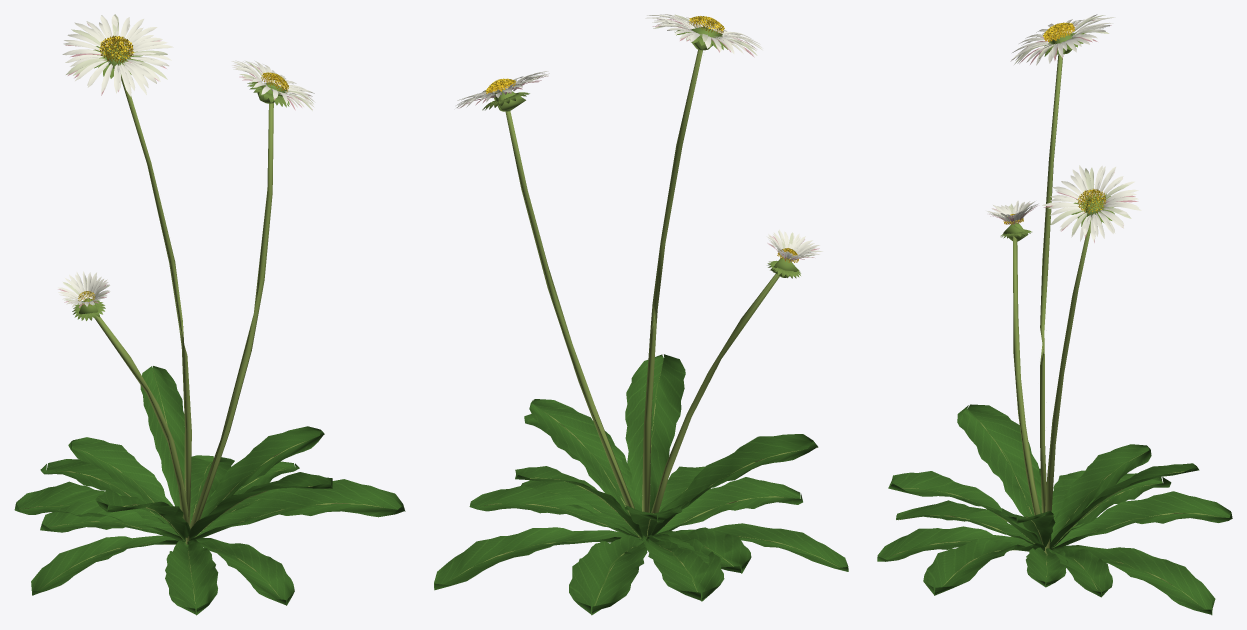
Rendered from common-daisy.glb.
The picture shows the model from 3 angles, left to right: view 1: azimuth 30°, elevation 25°; view 2: azimuth 150°, elevation 25°; view 3: azimuth 270°, elevation 25°; orthographic projection. The views are drawn at different scales.
Visible parts, largest first — view 1: Basal spoon-leaf rosette, Leafless flower scapes, White ray florets, Golden tubular disc florets, Green involucre, Flower receptacles; view 2: Basal spoon-leaf rosette, Leafless flower scapes, White ray florets, Flower receptacles, Golden tubular disc florets, Green involucre; view 3: Basal spoon-leaf rosette, Leafless flower scapes, White ray florets, Golden tubular disc florets, Flower receptacles, Green involucre.
Boxes of the visible parts, <box> form: Basal spoon-leaf rosette: <box>14,366,405,615</box>; Leafless flower scapes: <box>95,75,273,544</box>; White ray florets: <box>58,14,315,307</box>; Golden tubular disc florets: <box>78,35,288,305</box>; Green involucre: <box>72,41,289,320</box>; Flower receptacles: <box>79,47,287,314</box>; Basal spoon-leaf rosette: <box>434,354,848,615</box>; Leafless flower scapes: <box>505,49,779,537</box>; White ray florets: <box>456,14,822,260</box>; Flower receptacles: <box>493,27,798,277</box>; Golden tubular disc florets: <box>485,16,798,262</box>; Green involucre: <box>482,30,800,278</box>; Basal spoon-leaf rosette: <box>877,404,1232,615</box>; Leafless flower scapes: <box>1013,53,1090,553</box>; White ray florets: <box>987,14,1141,241</box>; Golden tubular disc florets: <box>1003,22,1106,224</box>; Flower receptacles: <box>1003,33,1104,241</box>; Green involucre: <box>1000,32,1114,238</box>.
Size of the model in its own units: 0.0956 by 0.1442 by 0.0907.
Materials: 8 (1 with a texture image).
